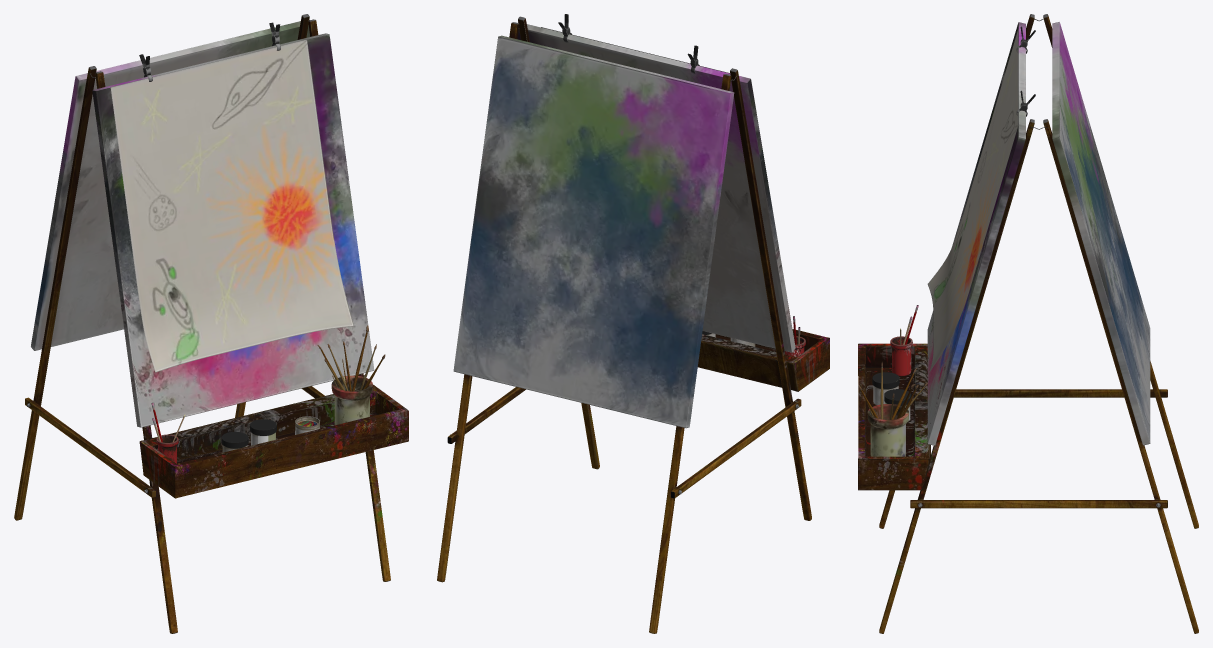
The picture shows the model from 3 angles, left to right: view 1: azimuth 30°, elevation 25°; view 2: azimuth 150°, elevation 25°; view 3: azimuth 270°, elevation 25°; orthographic projection.
Parts seen in each view (by area): view 1: polySurface30_easelMaterial_0, polySurface3_easelAccMaterial_0; view 2: polySurface30_easelMaterial_0; view 3: polySurface30_easelMaterial_0, polySurface3_easelAccMaterial_0.
Boxes of the visible parts, x1,y1,x2,y2 form: polySurface30_easelMaterial_0: (14, 14, 408, 633); polySurface3_easelAccMaterial_0: (151, 325, 385, 463); polySurface30_easelMaterial_0: (437, 14, 829, 633); polySurface30_easelMaterial_0: (858, 14, 1198, 633); polySurface3_easelAccMaterial_0: (858, 305, 927, 456).
Bounding box in the file's own units: 0.0685 × 0.1445 × 0.0855.
Materials: 2 (2 with a texture image).
